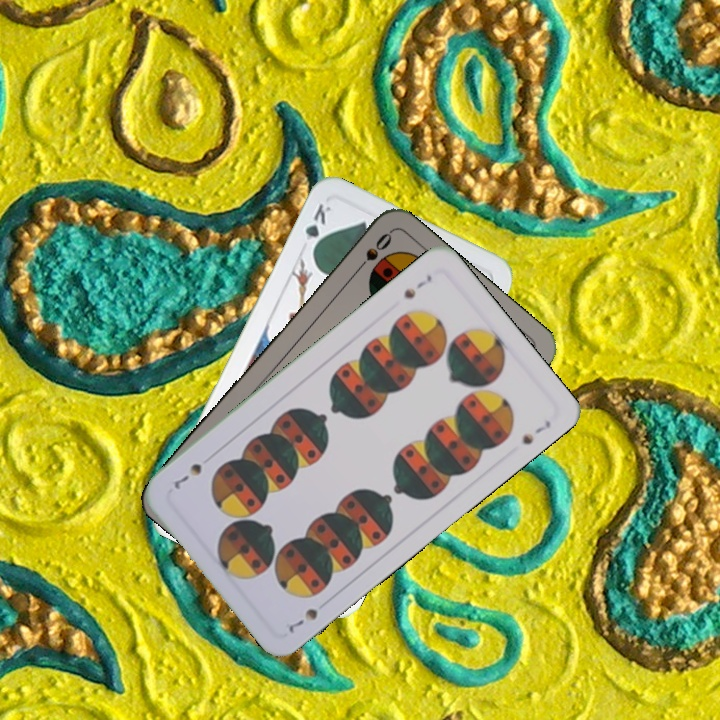GK: (300, 200, 334, 256)
S7: (284, 604, 321, 636), (399, 270, 435, 302)
SO: (350, 228, 395, 277)
